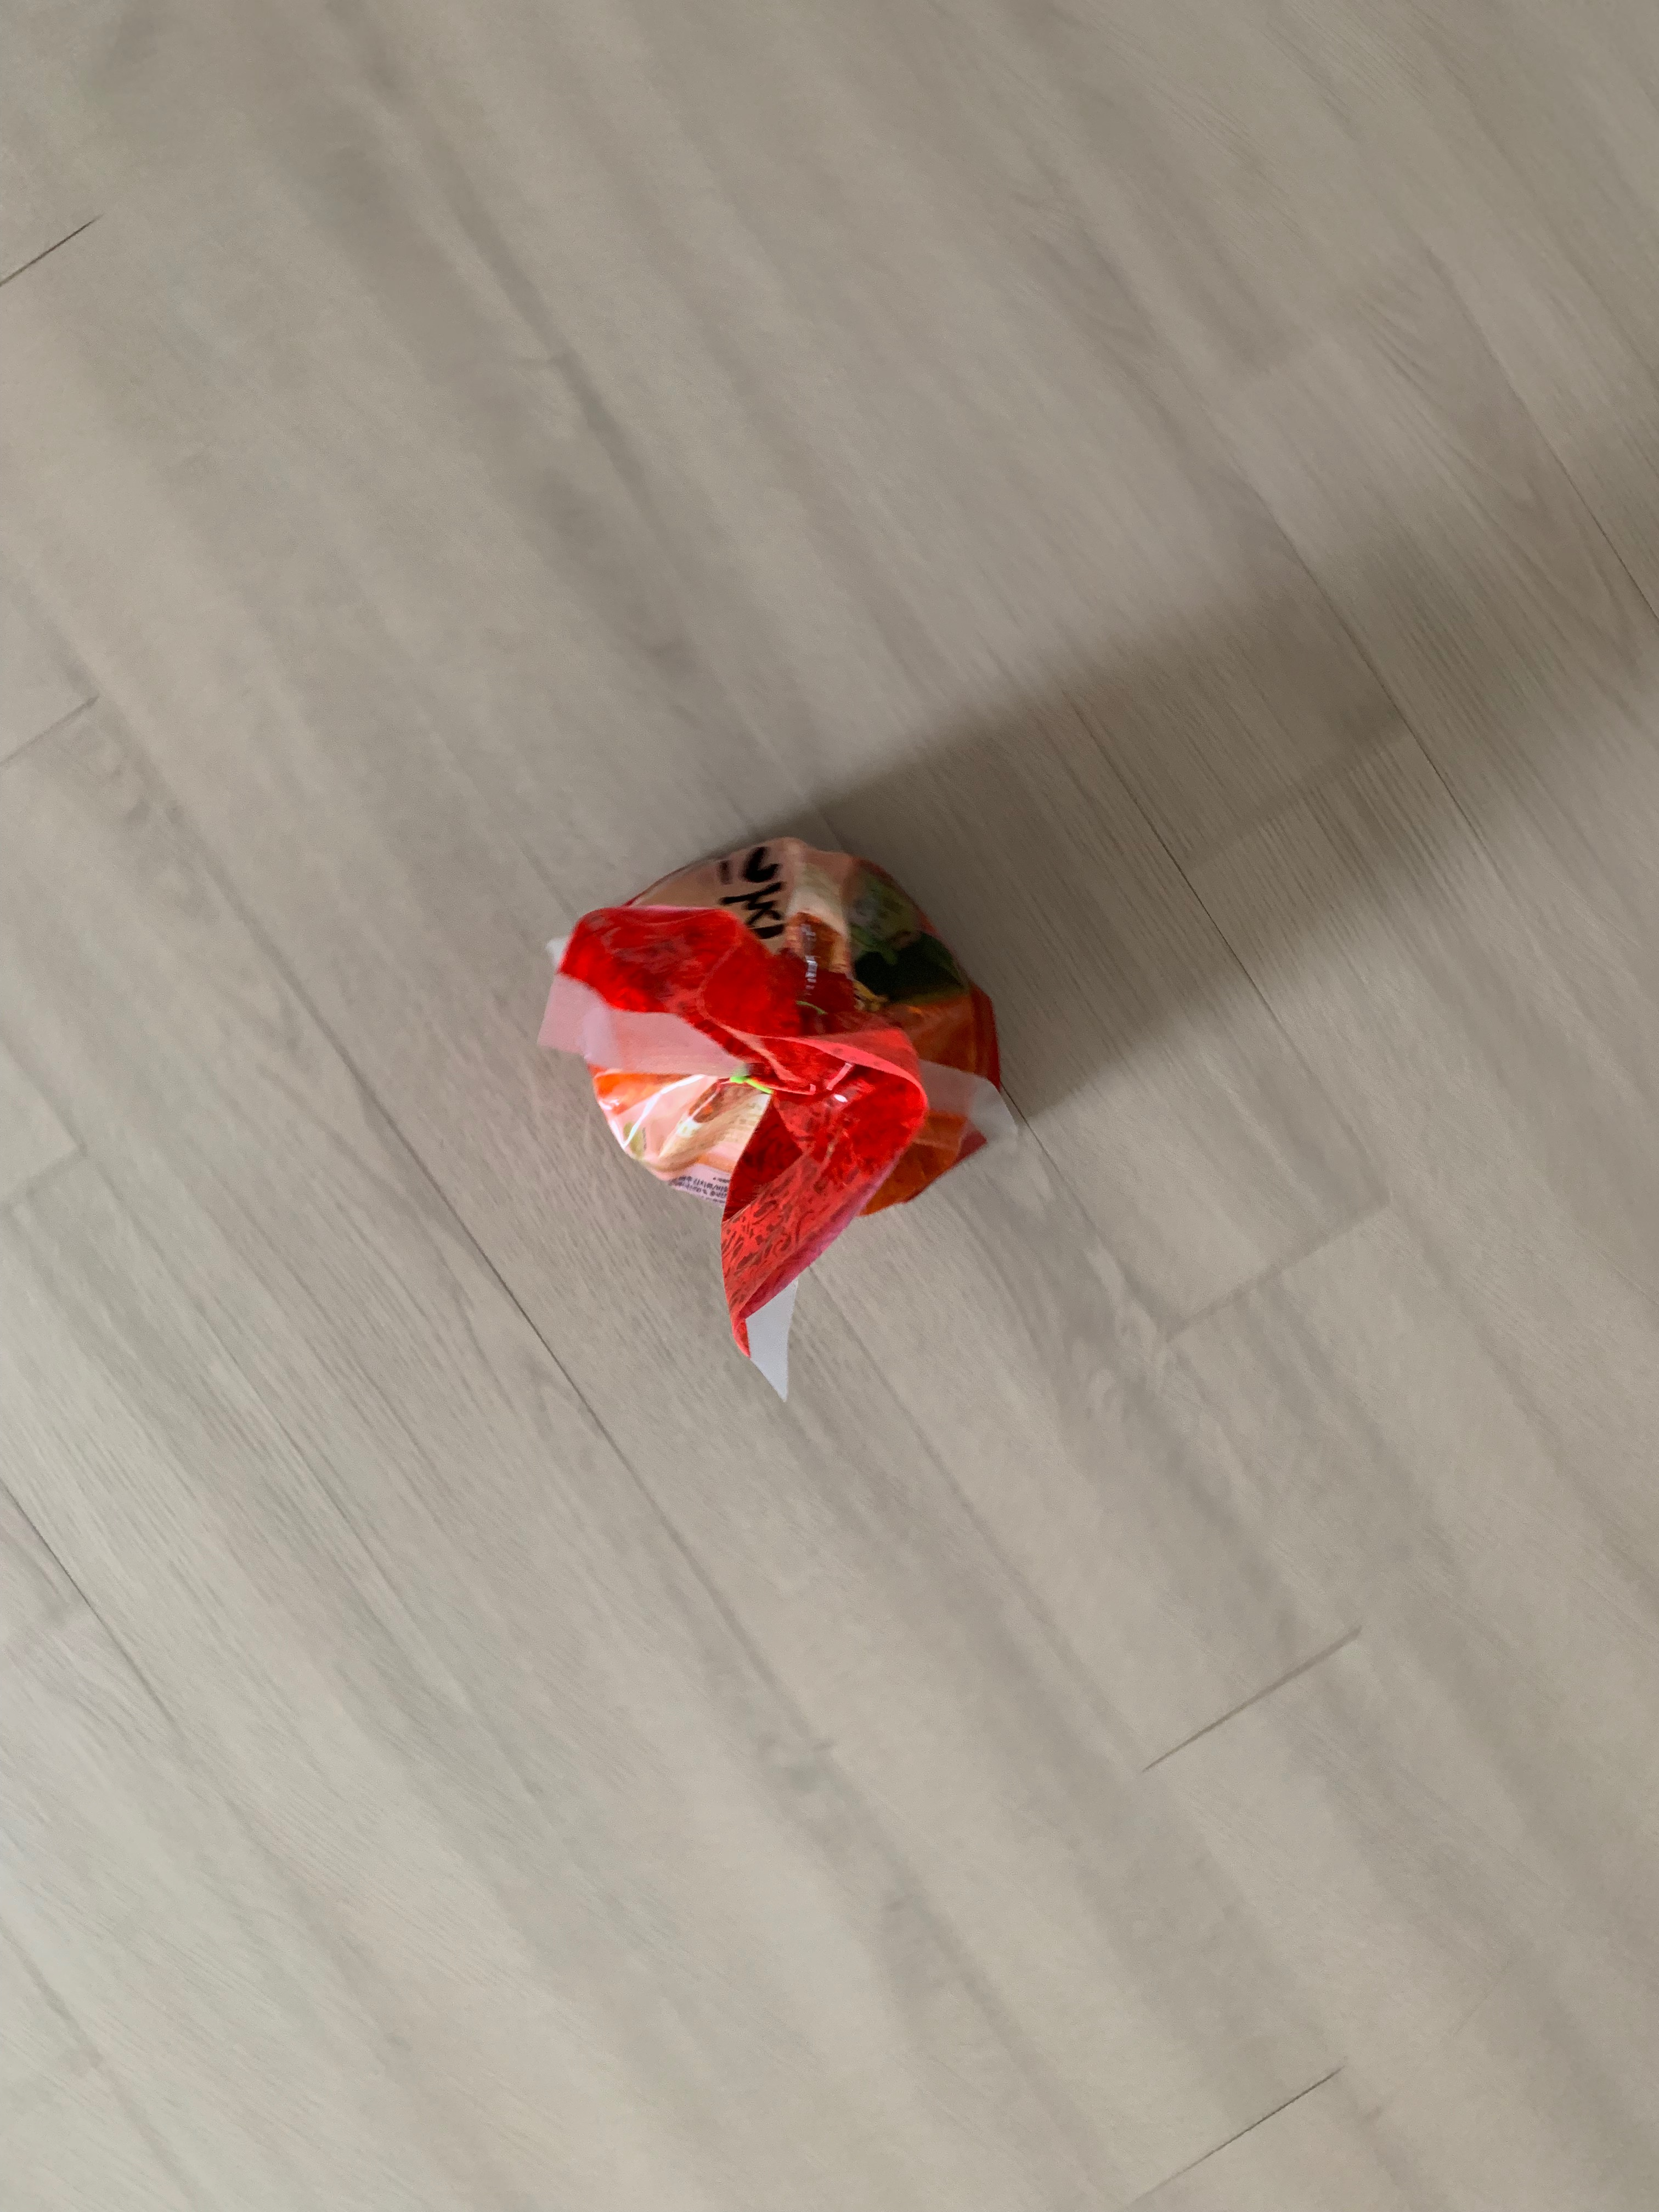kimchi: (542, 833, 1012, 1306)
